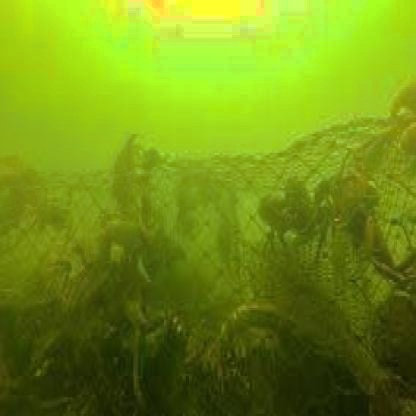net: (2, 120, 413, 416)
